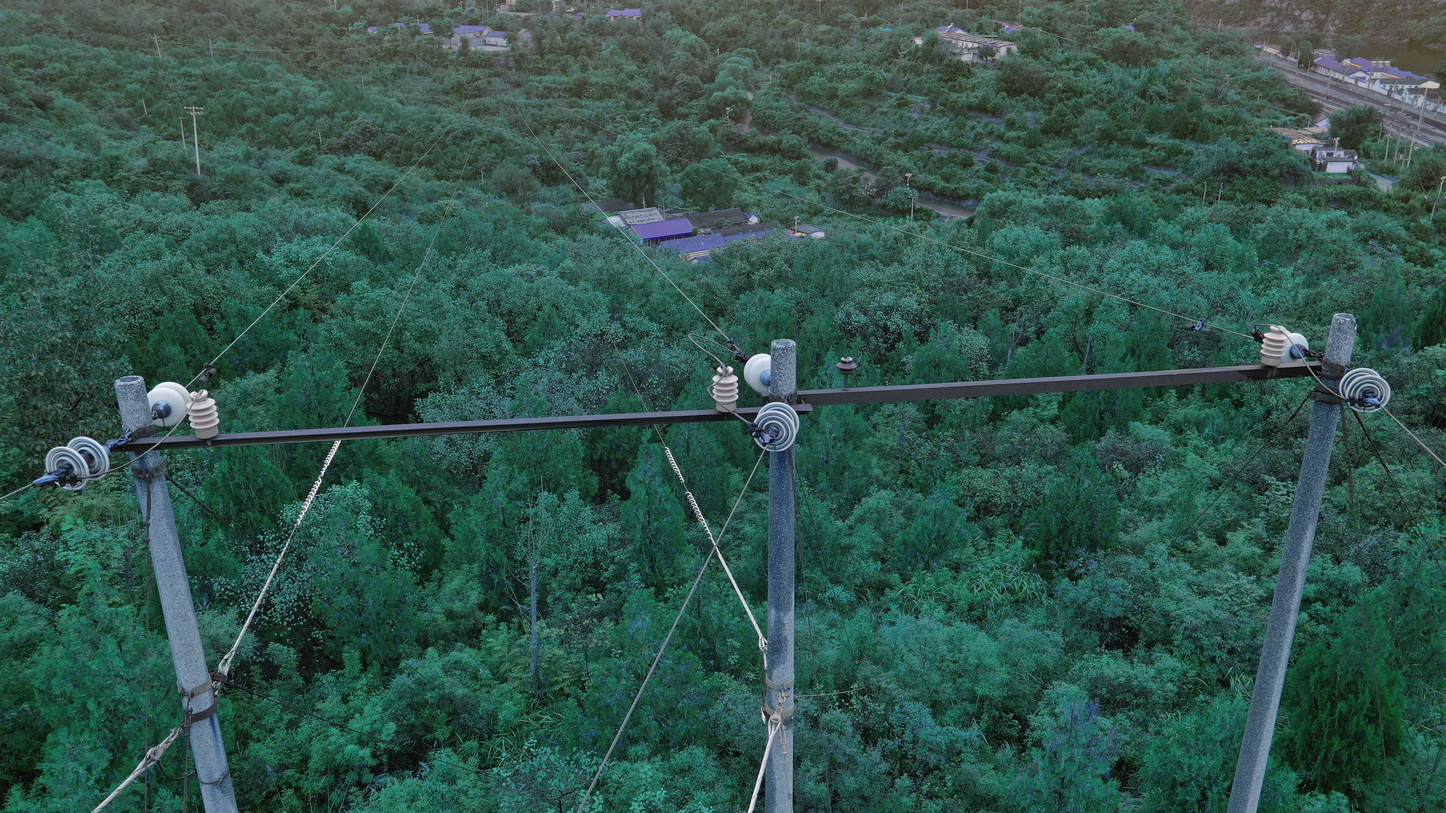severe_soiling_no_discharge_whole: (41, 436, 113, 493), (747, 400, 798, 452), (1338, 368, 1391, 412)
